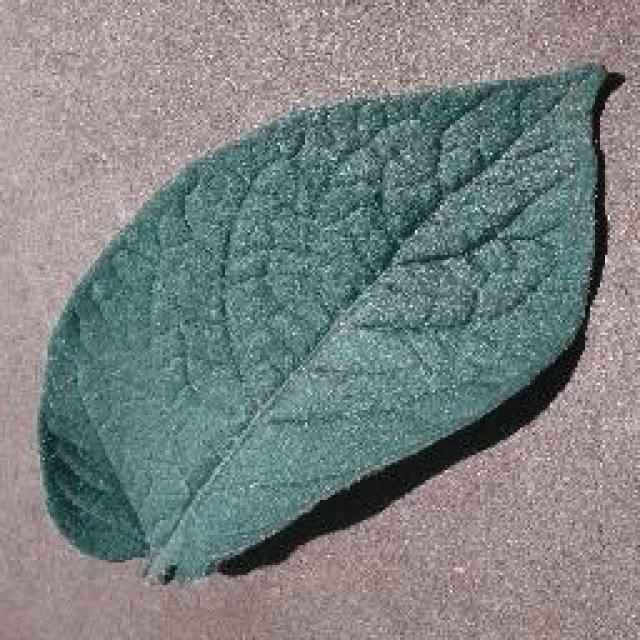Potato___healthy: (28, 55, 616, 591)
